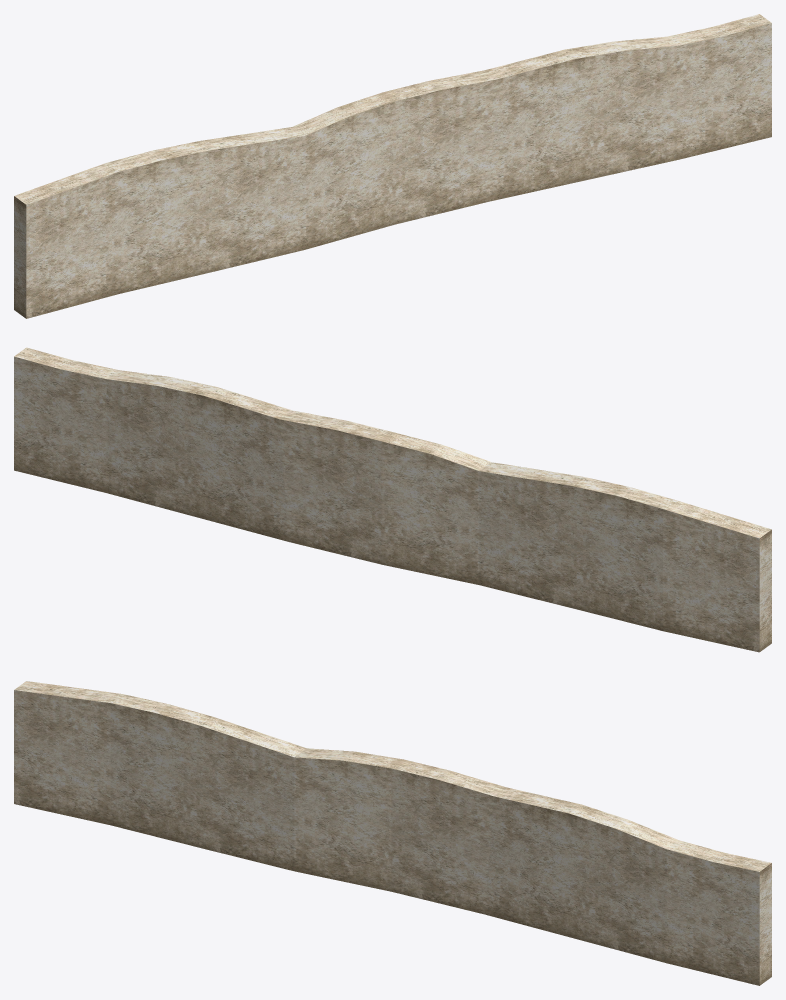
The model's file is thm_tato_jnkshp_wall_l0.fbx.
3 views of the same model, one above another, from view 1: azimuth 30°, elevation 25°; view 2: azimuth 150°, elevation 25°; view 3: azimuth 330°, elevation 25° (orthographic).
Visible parts, largest first — view 1: mesh_node; view 2: mesh_node; view 3: mesh_node.
Part boxes in pixels (bbox=[...]): mesh_node: bbox=[14, 14, 771, 318]; mesh_node: bbox=[14, 347, 771, 652]; mesh_node: bbox=[14, 681, 771, 985].
Bounding box in the file's own units: 20 × 3.17 × 0.7837.
